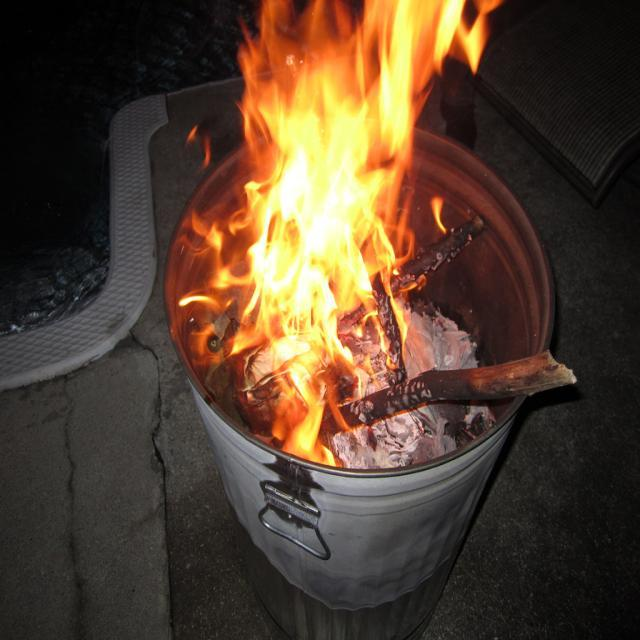Fire: (180, 0, 491, 429)
